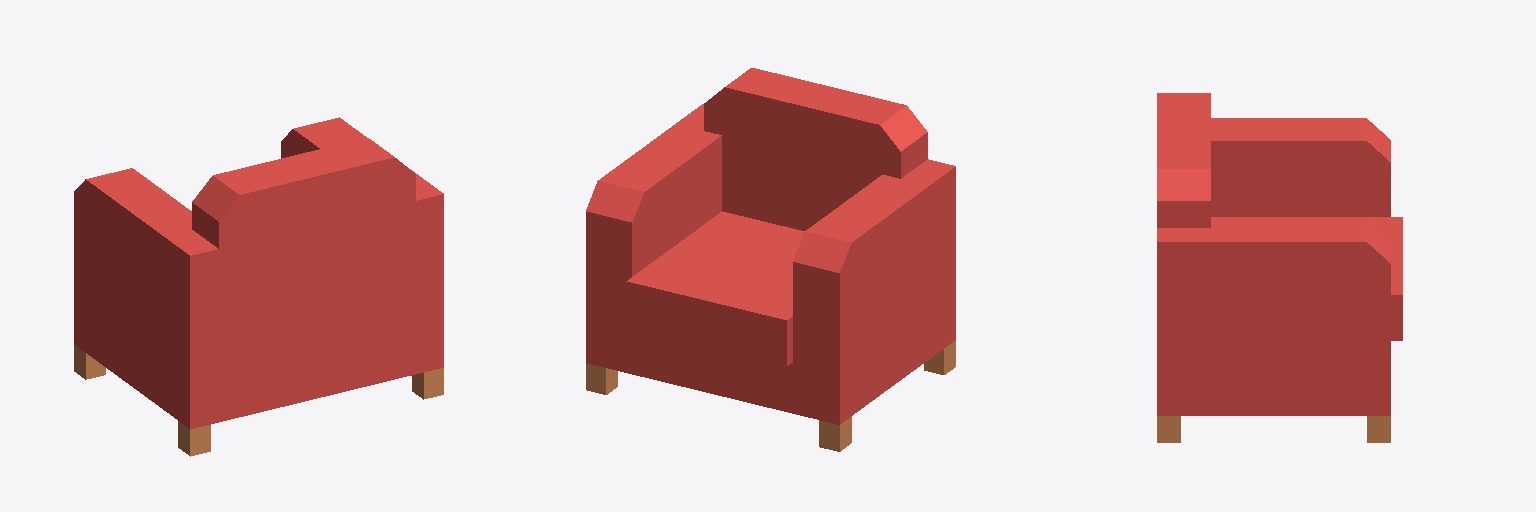
File: loungeChair.obj
3 renders of one model, left to right at view 1: azimuth 30°, elevation 25°; view 2: azimuth 150°, elevation 25°; view 3: azimuth 270°, elevation 25°, orthographic.
Parts seen in each view (by area): view 1: loungeChair; view 2: loungeChair; view 3: loungeChair.
Part boxes in pixels (bbox=[...]): loungeChair: bbox=[74, 117, 443, 456]; loungeChair: bbox=[586, 68, 955, 451]; loungeChair: bbox=[1157, 93, 1402, 442].
Size of the model in its own units: 0.49 by 0.46 by 0.41.